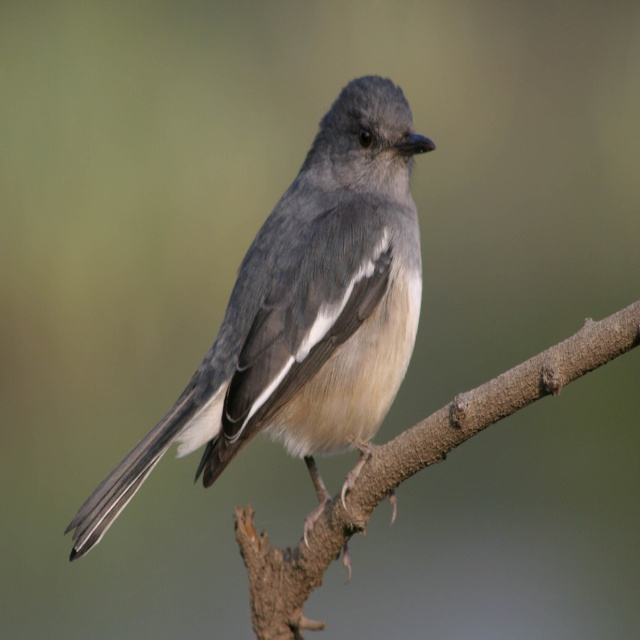Sparrow: (64, 75, 436, 586)
